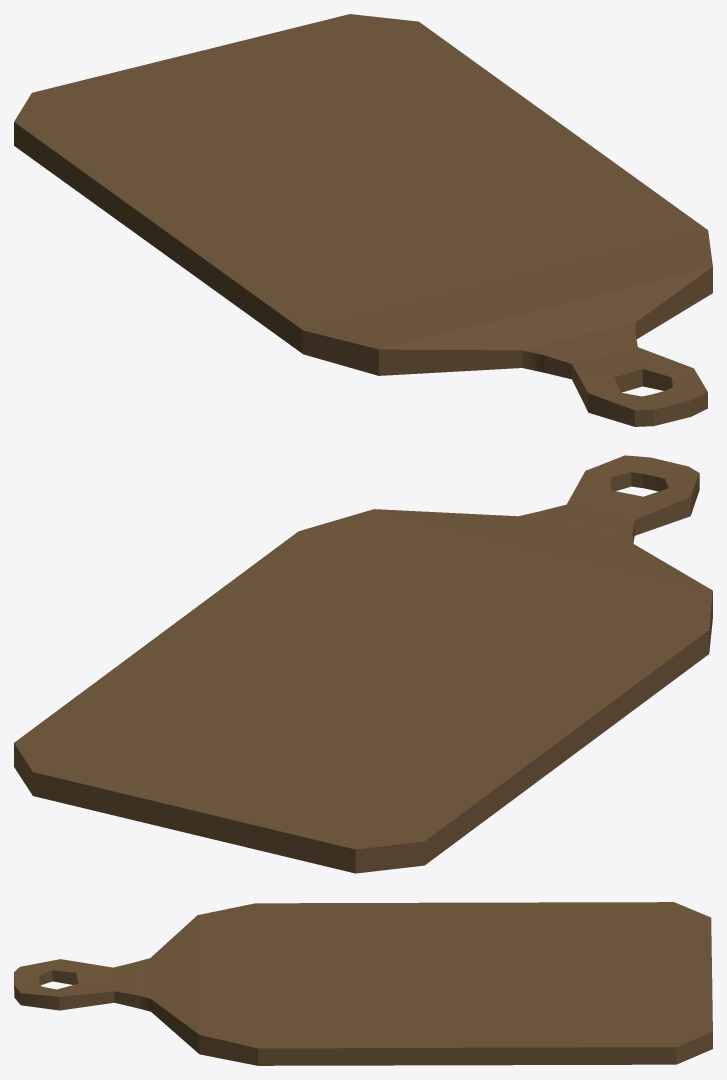
The model's file is Board_1.fbx.
3 views of the same model, one above another, from view 1: azimuth 30°, elevation 25°; view 2: azimuth 150°, elevation 25°; view 3: azimuth 270°, elevation 25° (orthographic). The views are drawn at different scales.
Parts seen in each view (by area): view 1: Board_1; view 2: Board_1; view 3: Board_1.
Boxes of the visible parts, x1,y1,x2,y2 form: Board_1: [14, 14, 712, 426]; Board_1: [14, 455, 712, 873]; Board_1: [14, 902, 712, 1065].
Bounding box in the file's own units: 26.31 × 1.63 × 53.13.
